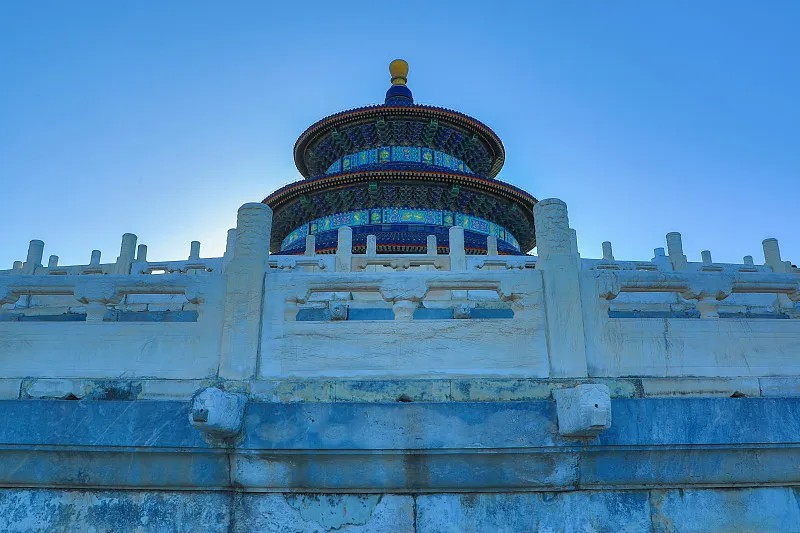Heaven: (254, 58, 546, 267)
